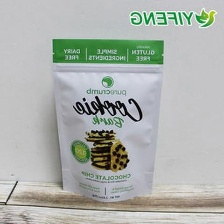snack: (44, 31, 171, 207)
